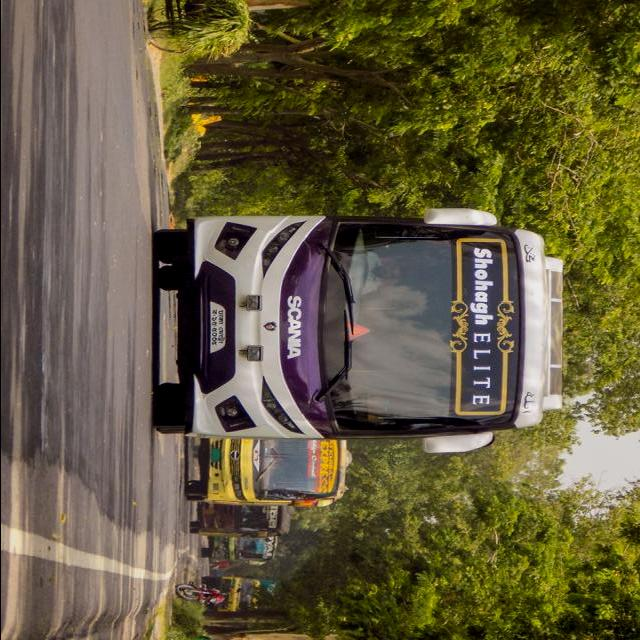bus: (154, 208, 567, 455), (184, 437, 355, 508)
